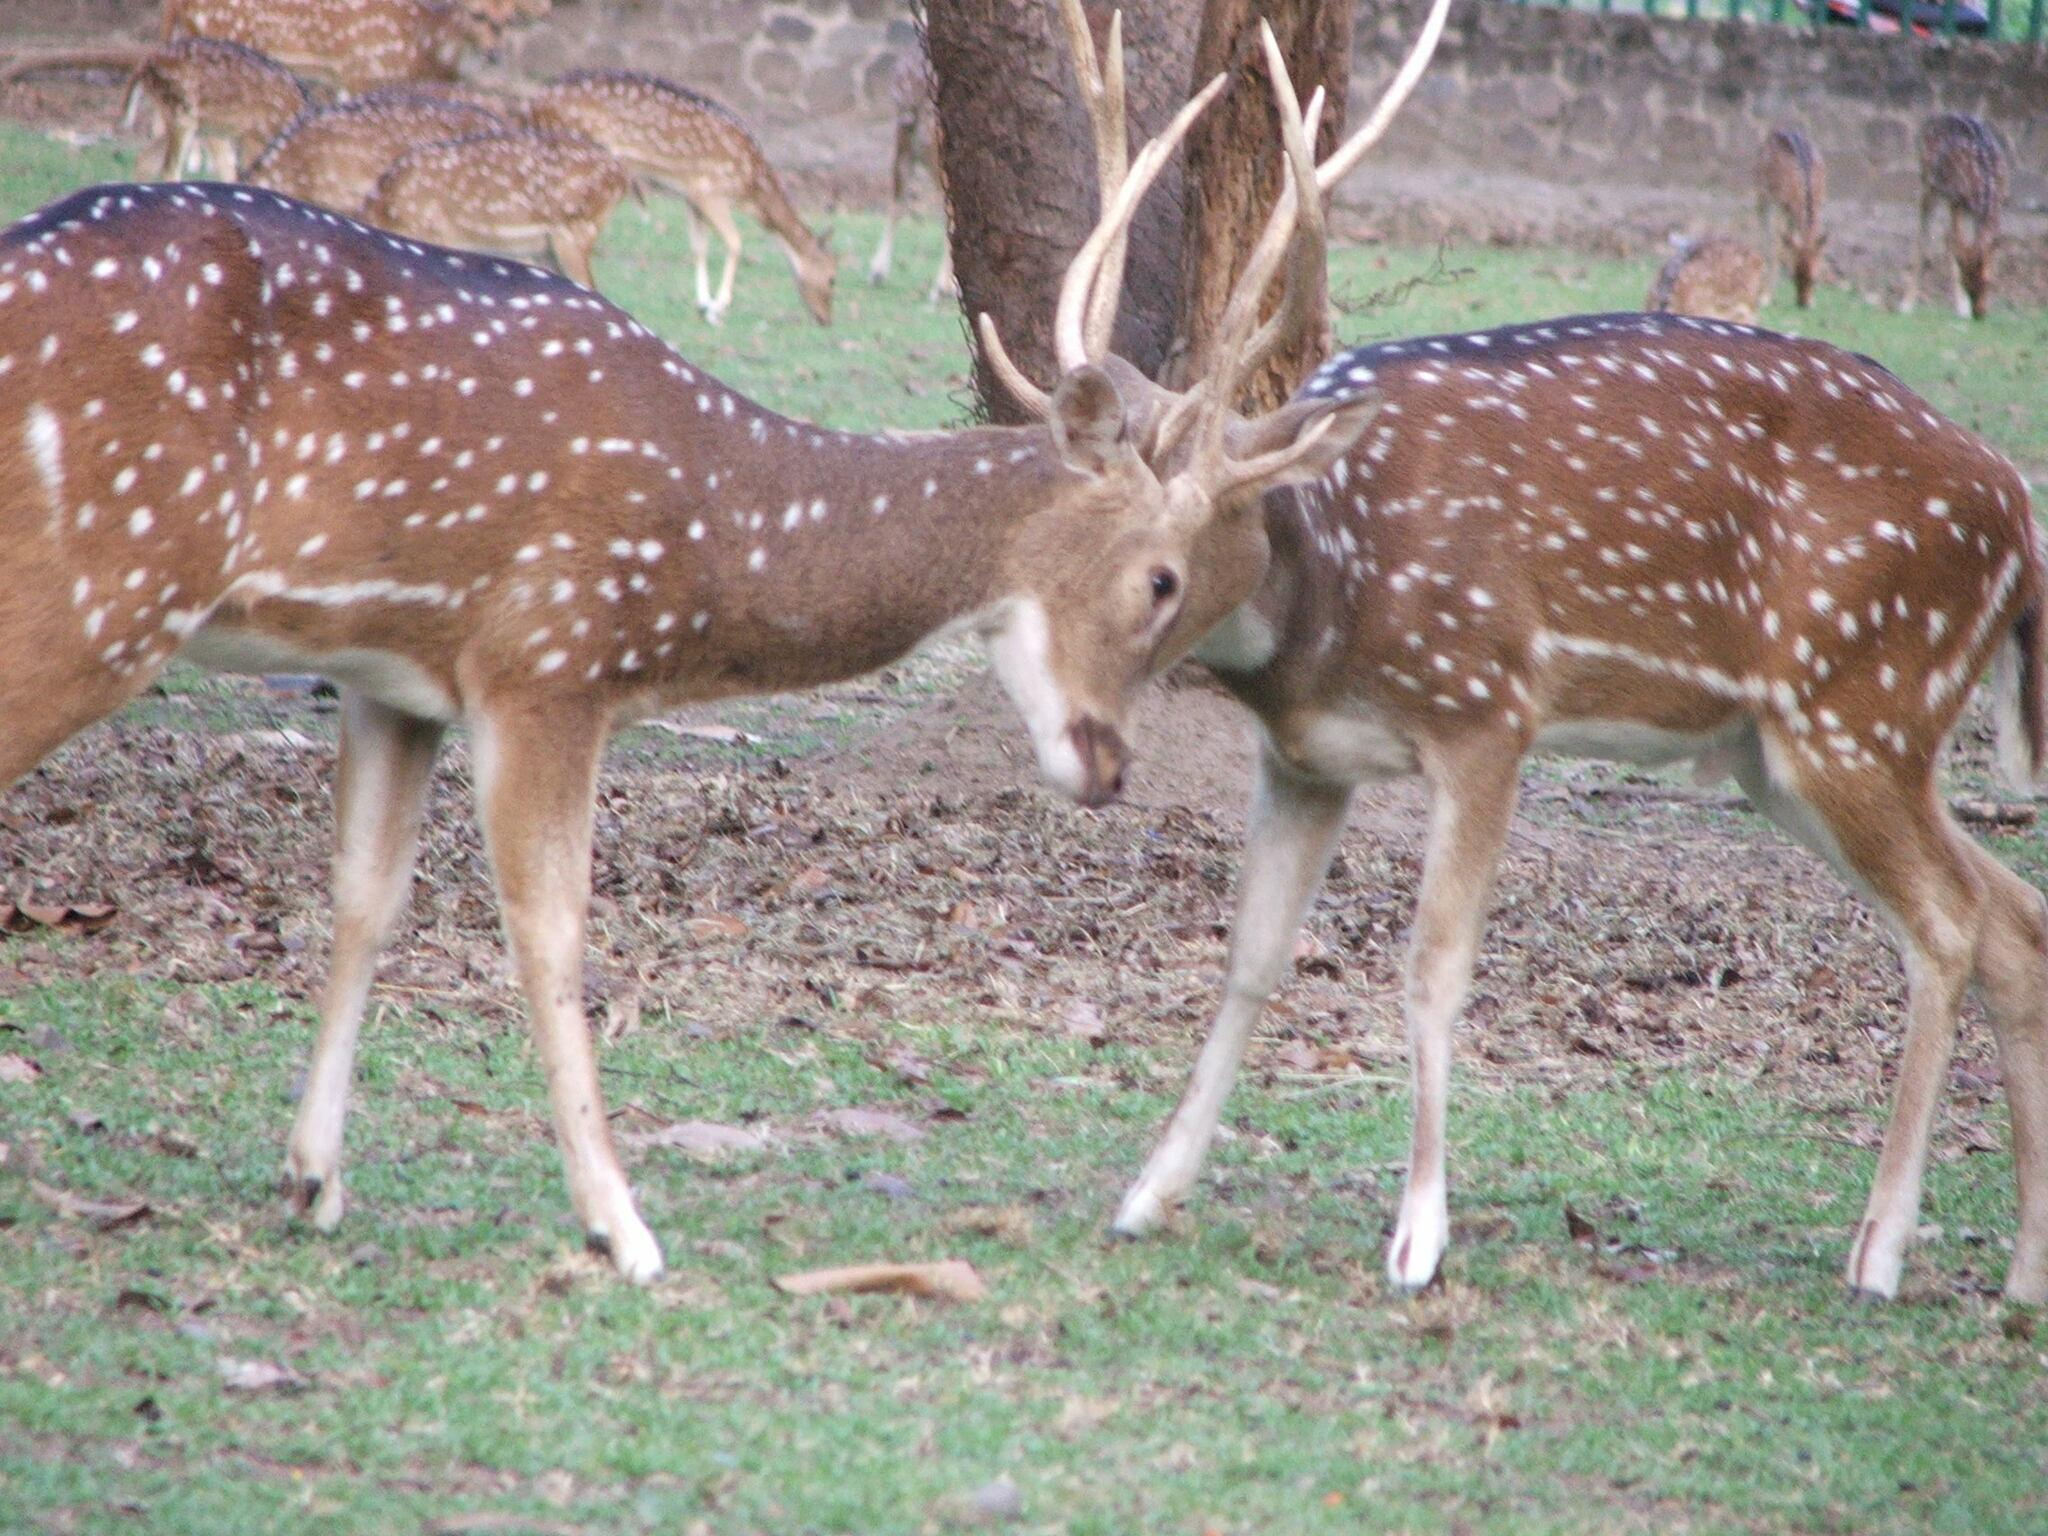Deer: (0, 184, 1371, 1279), (1116, 315, 2046, 1304), (527, 71, 834, 324), (361, 121, 629, 287), (0, 37, 306, 181), (240, 84, 514, 215), (1903, 115, 2008, 318), (1756, 129, 1825, 310), (1643, 236, 1769, 324)
